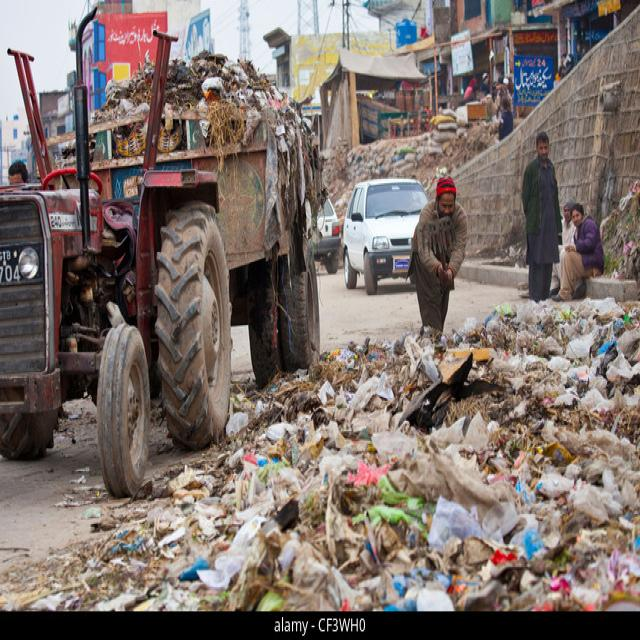trash: (217, 309, 634, 590), (154, 60, 278, 150), (150, 472, 212, 582)
